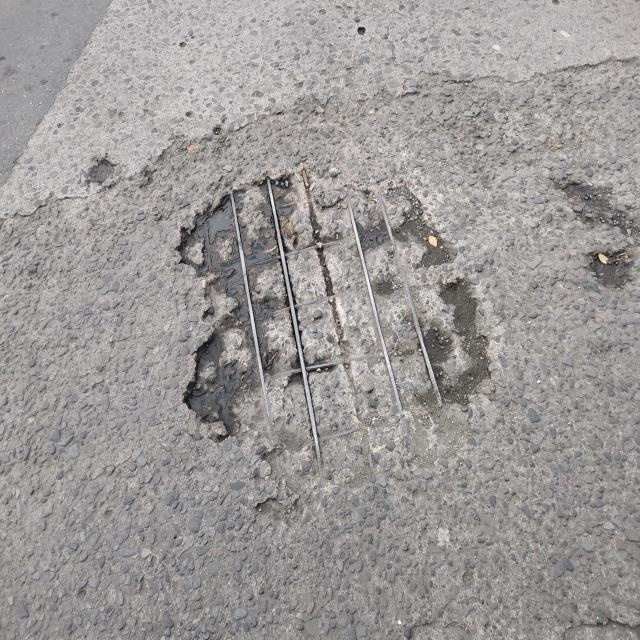pothole: (115, 78, 540, 550), (552, 148, 636, 335)
